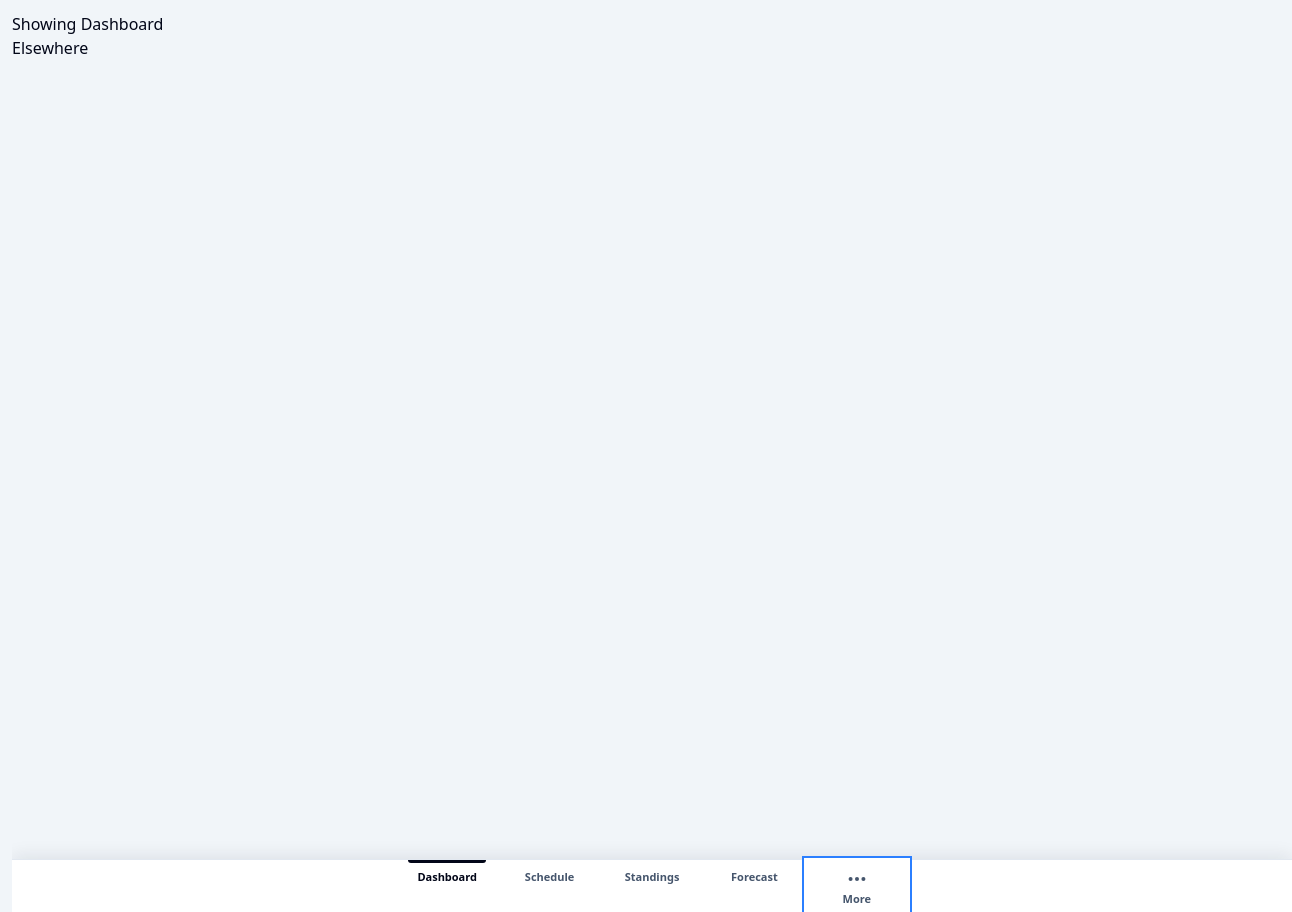
Test case: the tab row on a phone › keeps More open while the focus goes nowhere, as Safari's does on a tap in the list
The image size is (1292, 912).
Step 1. Click the button "More" → (857, 886), box [806,860,908,911]
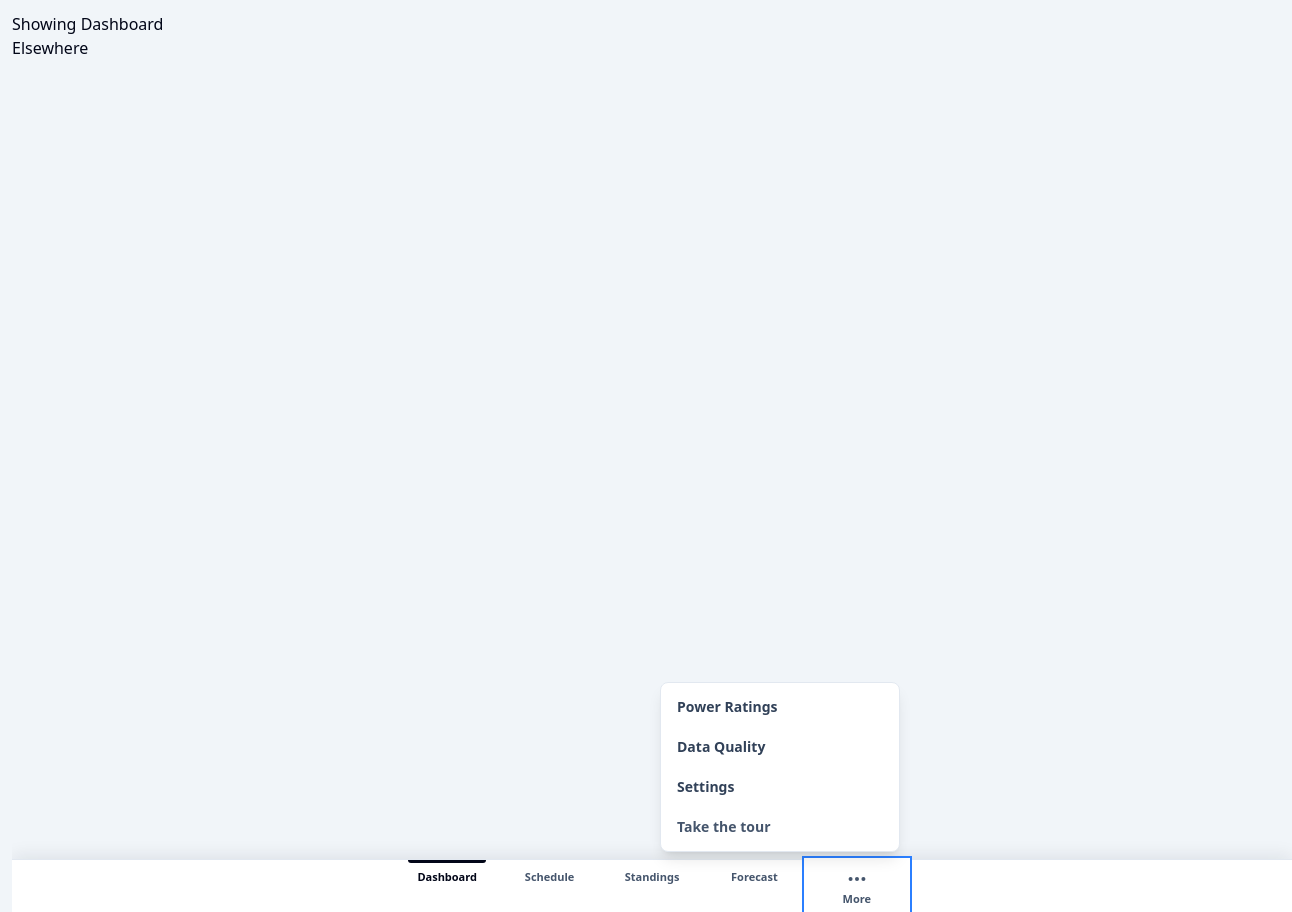
Step 2. Click the button "Settings" → (780, 787), box [665,767,895,807]
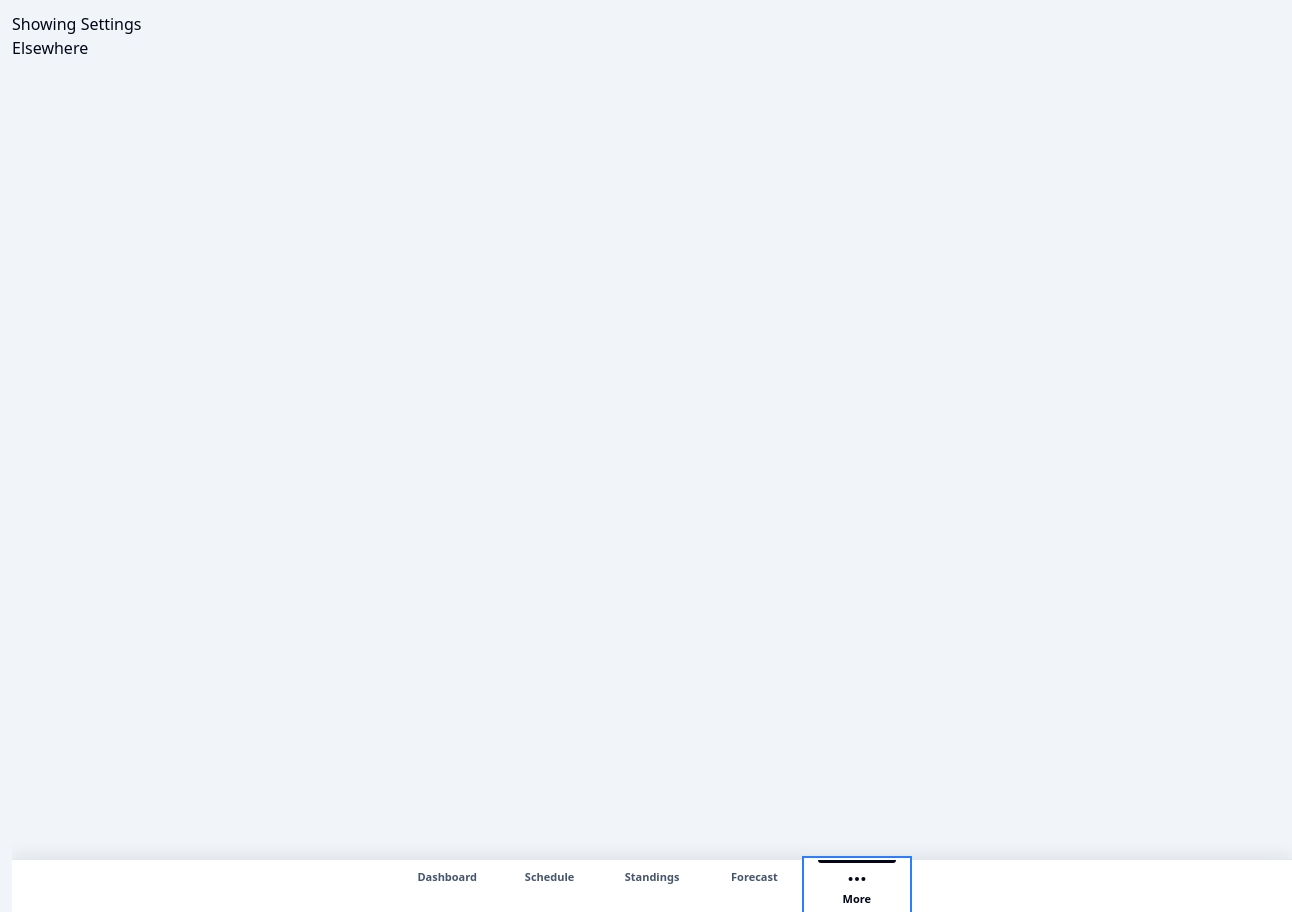
Check: the text "Showing Settings" is shown, box [12,13,142,35]
